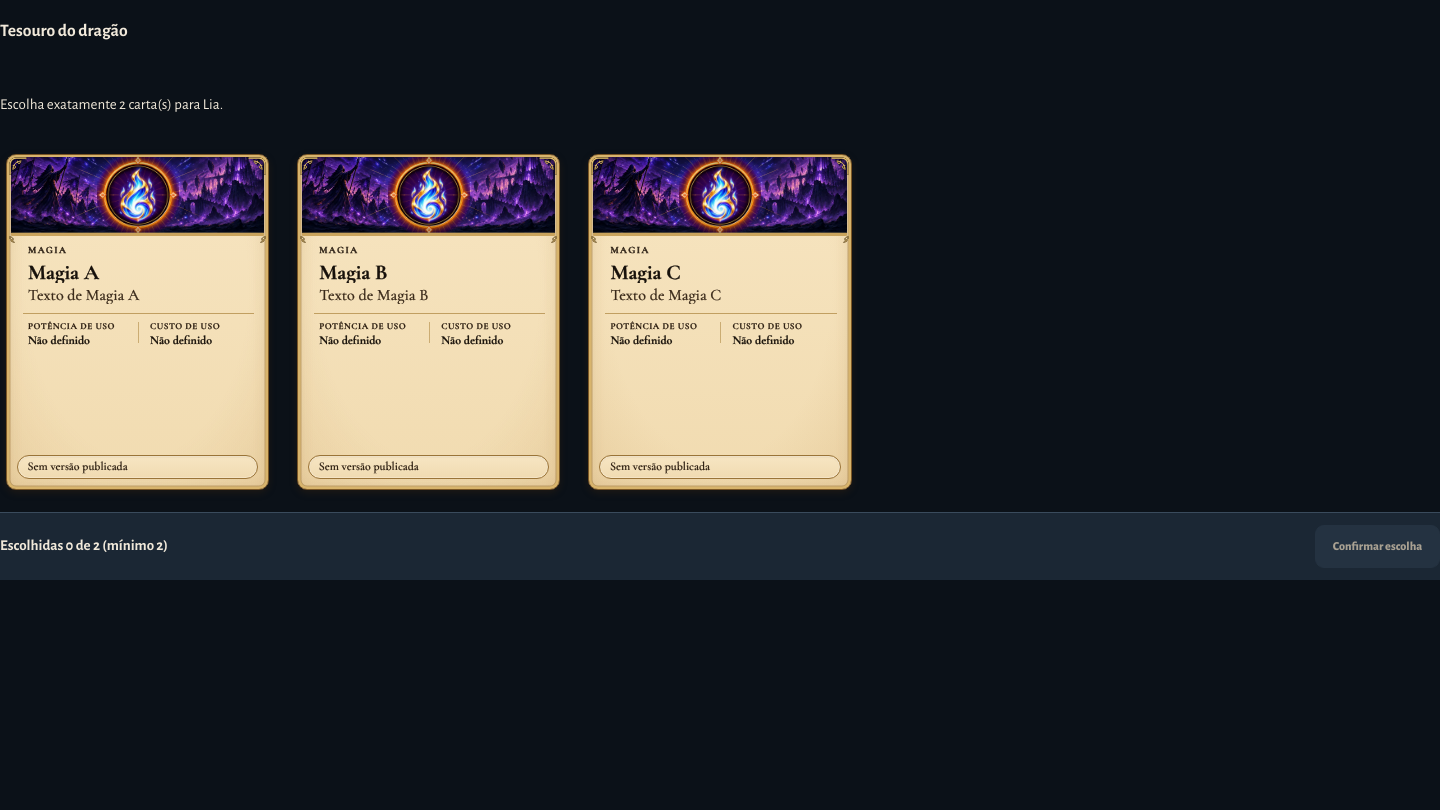
Test: OfferChooser — 9.8 escolha acessível e animada › só permite confirmar dentro dos limites e pede confirmação antes de enviar
Click the button with aria-label "Magia A" at (138,322), box [0, 148, 275, 496]
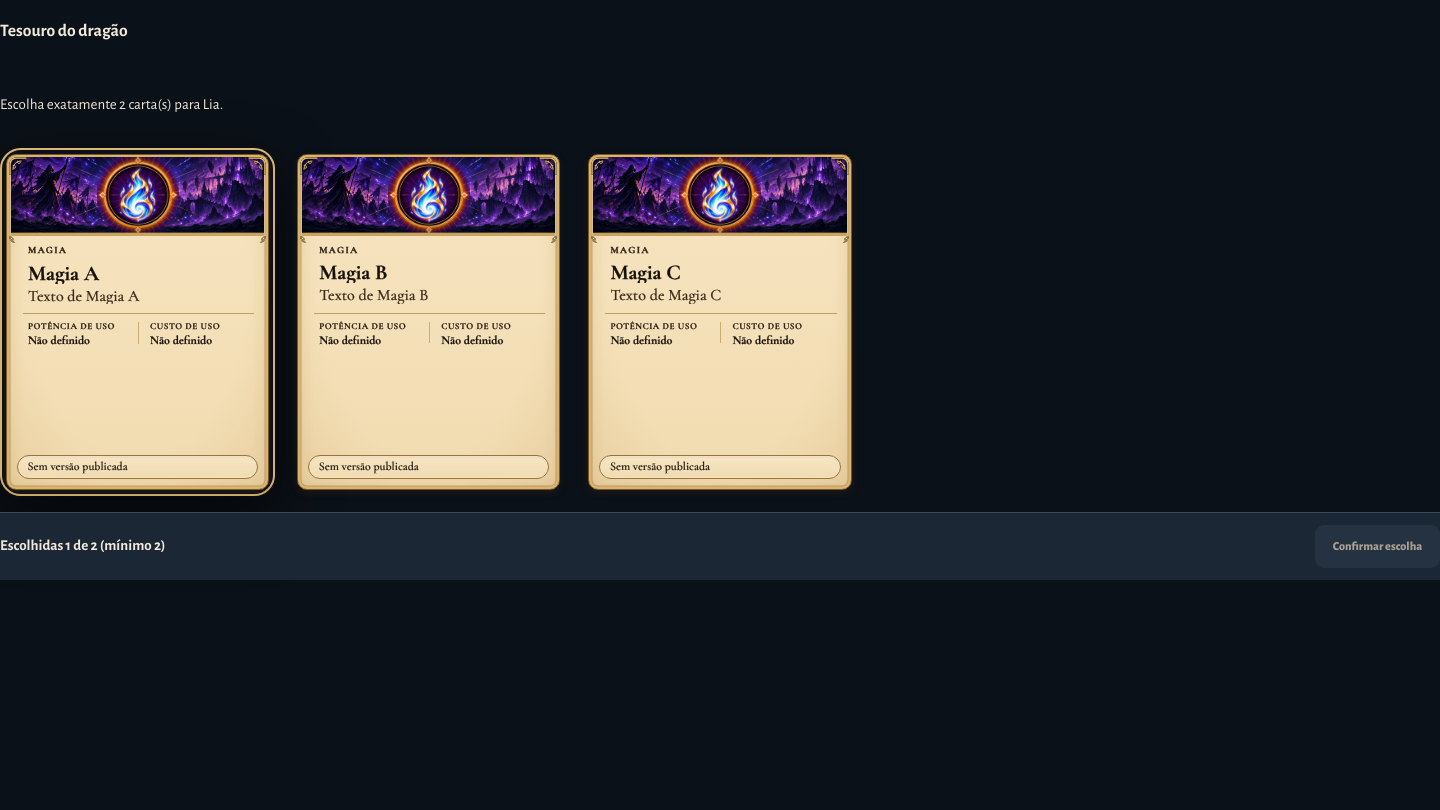
Expected: the button "Confirmar escolha" is disabled, [1315, 524, 1439, 568]
Click the button with aria-label "Magia B" at (429,322), box [291, 148, 566, 496]
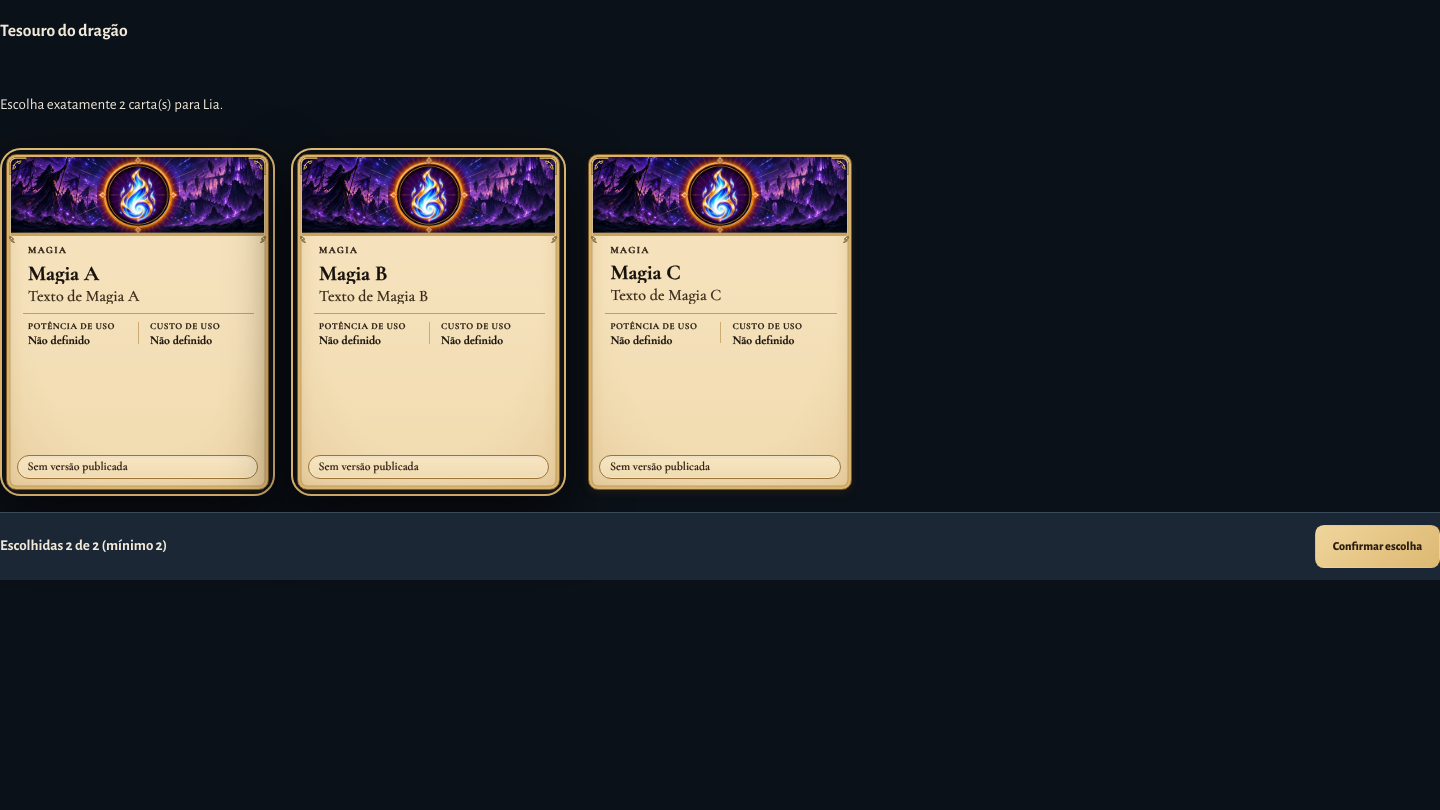
Expected: the button "Confirmar escolha" is enabled, [1315, 524, 1439, 568]
Click the button with aria-label "Magia C" at (720,322), box [582, 148, 858, 496]
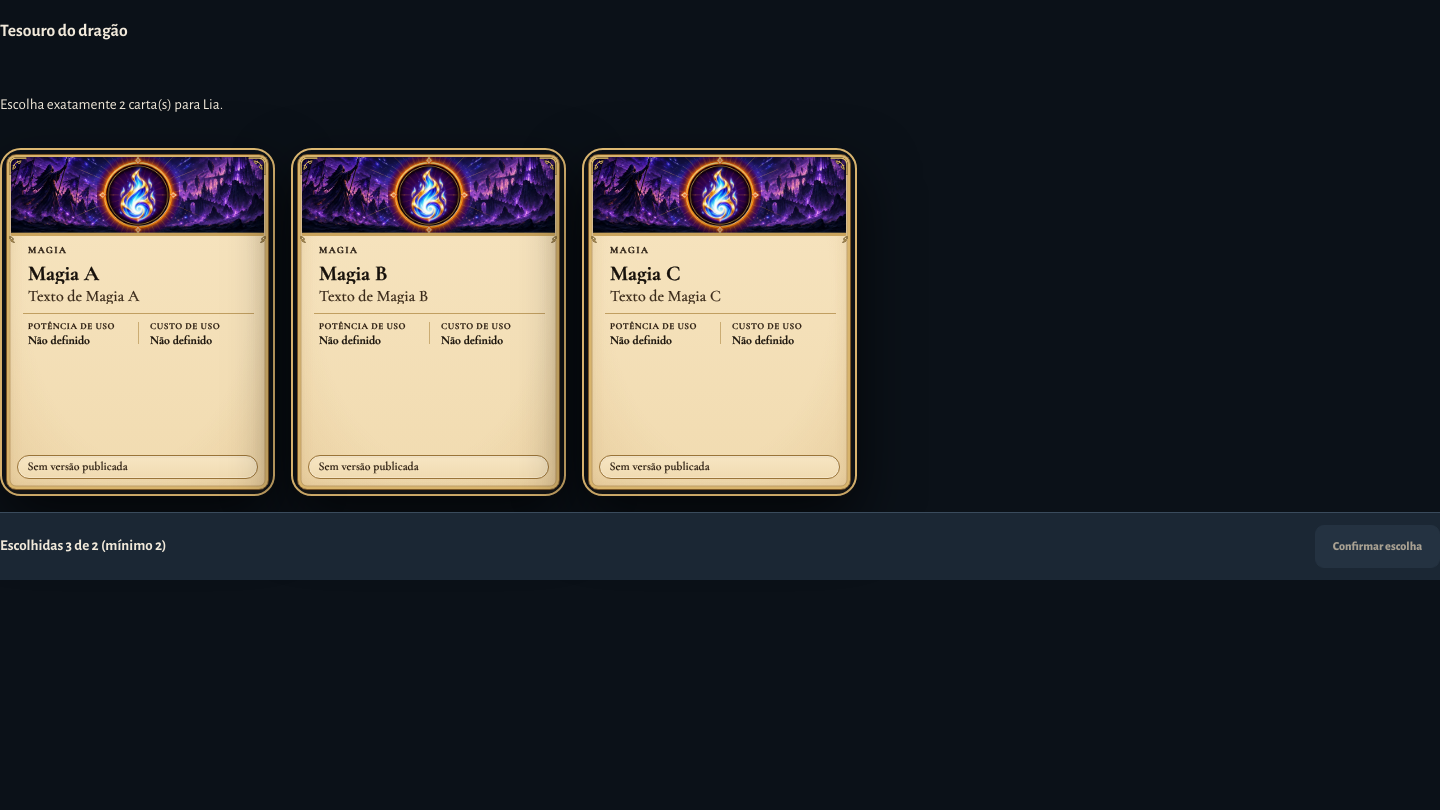
Expected: the button "Confirmar escolha" is disabled, [1315, 524, 1439, 568]
Click the button with aria-label "Magia C, escolhida" at (720,322), box [582, 148, 858, 496]
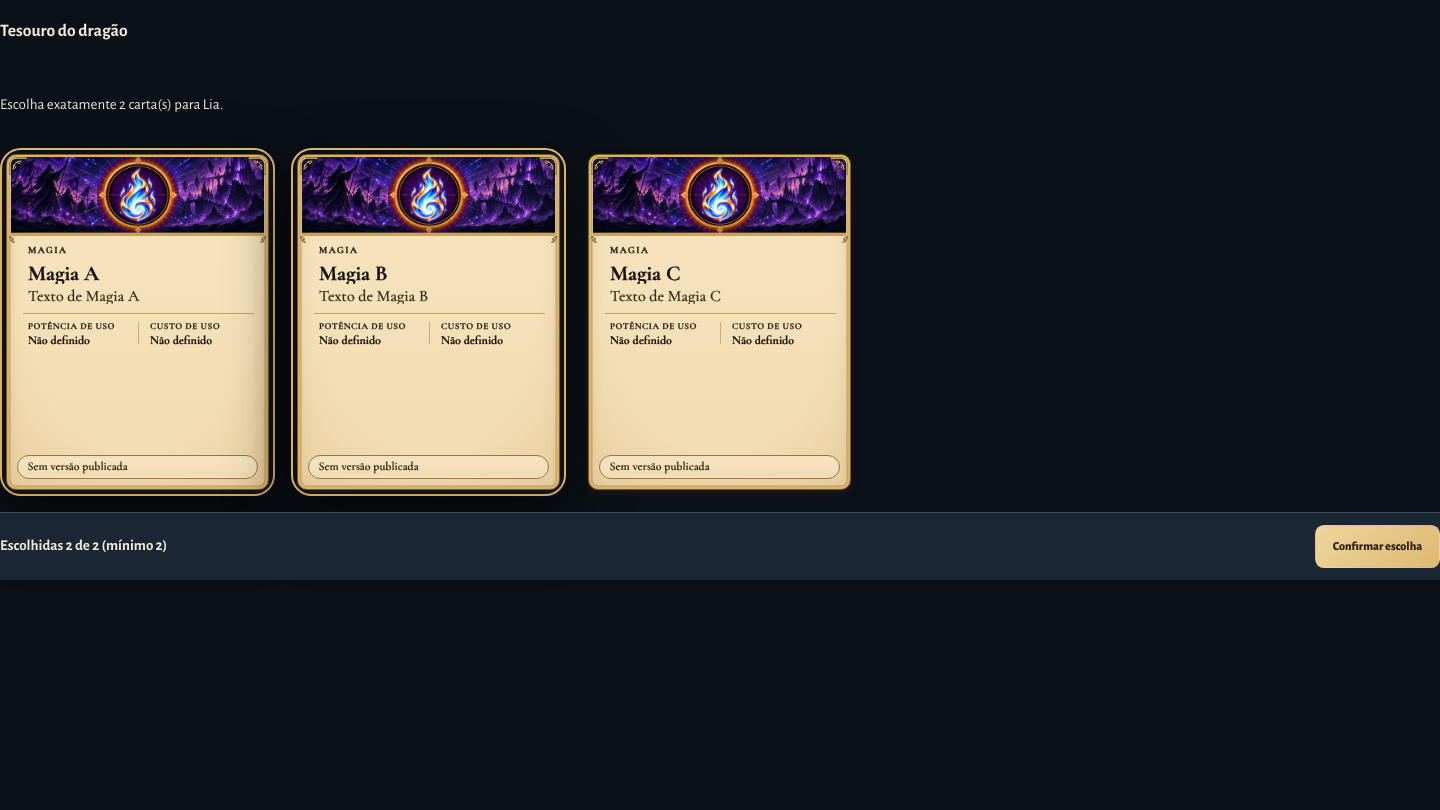
Click the button "Confirmar escolha" at (1378,546), box [1315, 524, 1439, 568]
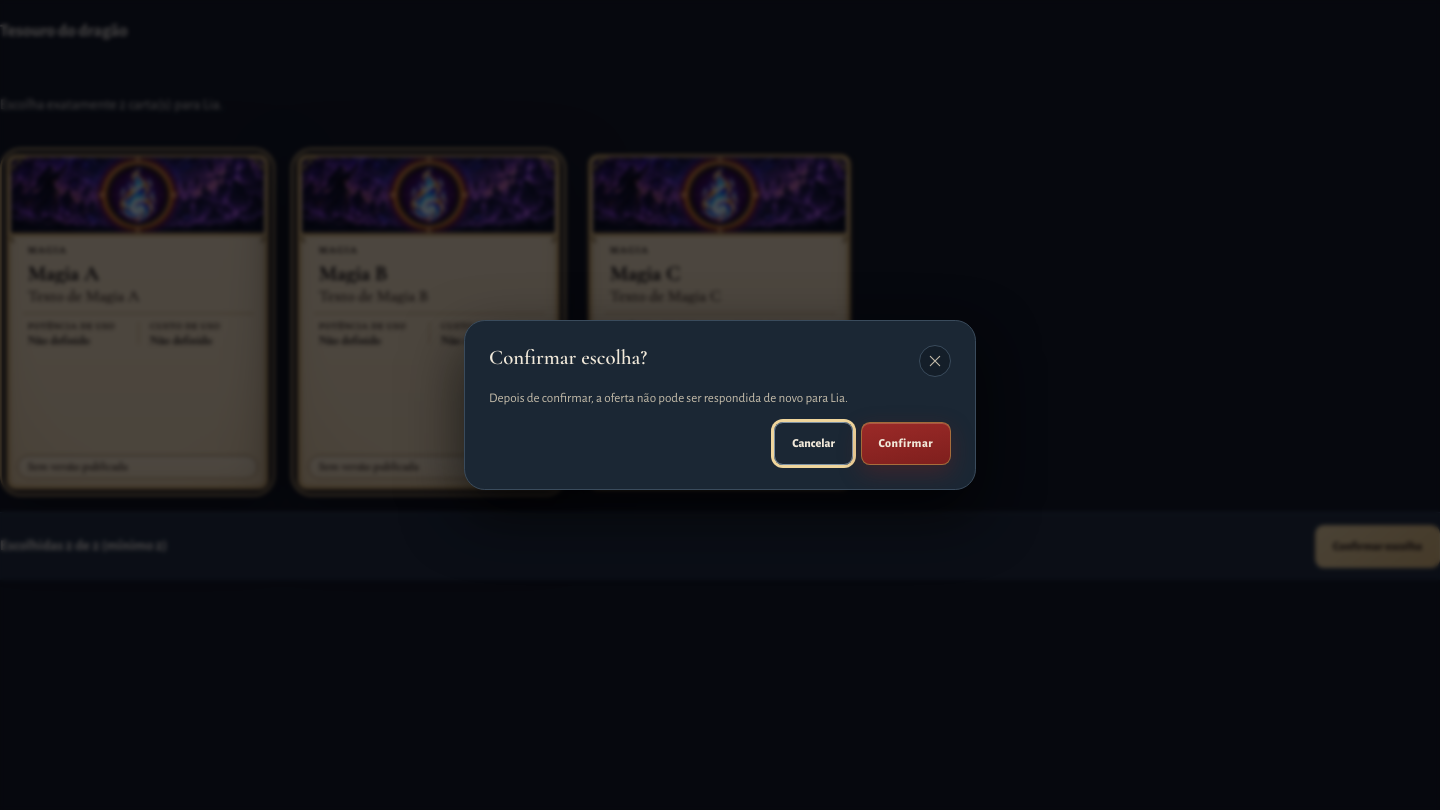
Click the button "Confirmar" at (906,443), box [861, 422, 951, 465]
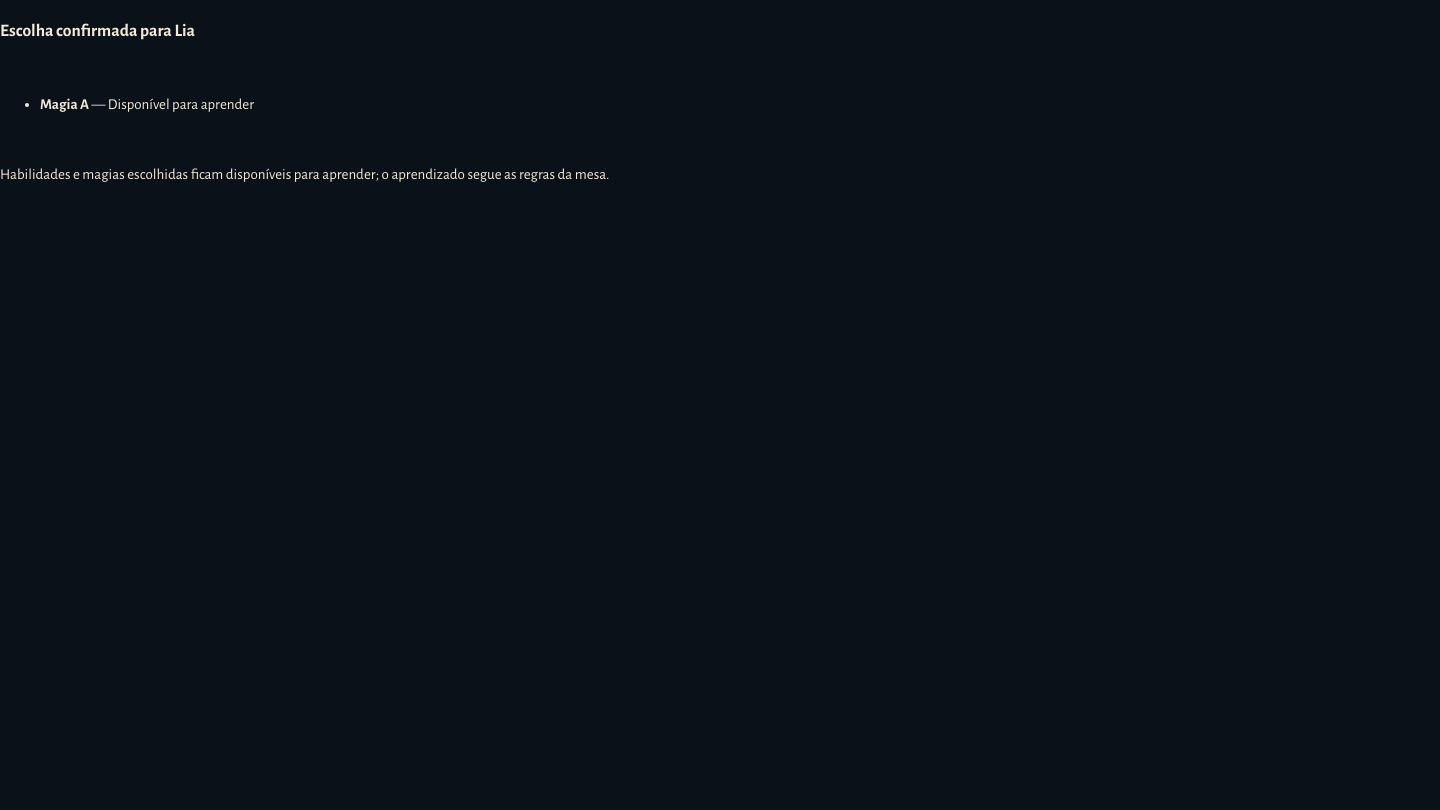
Expected: the list item "Magia A — Disponível para aprender" is shown, [40, 97, 254, 112]
Expected: the text "ficam disponíveis para aprender" is shown, [0, 166, 610, 182]
